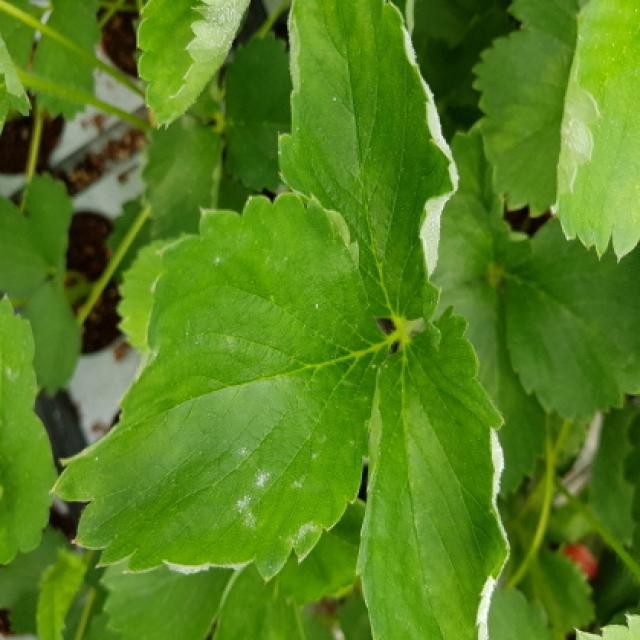Powdery Mildew Leaf: (48, 189, 392, 583), (276, 0, 459, 347), (353, 304, 512, 638), (548, 0, 640, 263), (136, 0, 249, 132)
